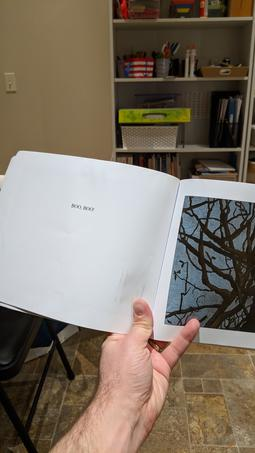text block: (66, 200, 99, 214)
